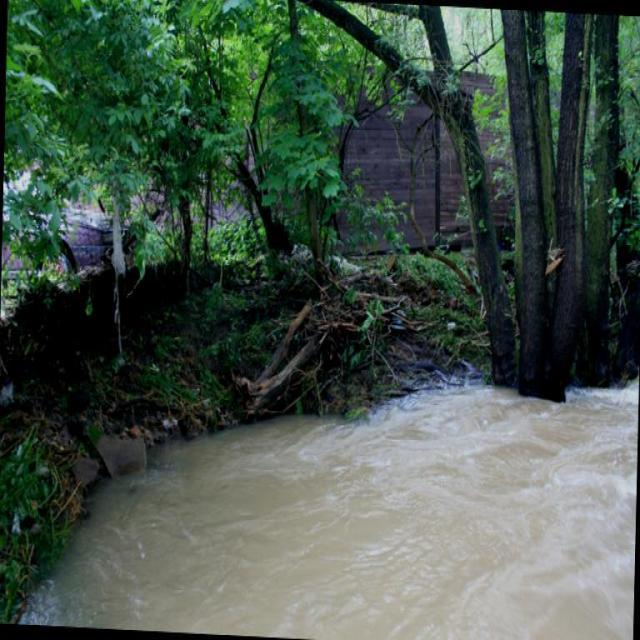flood: (0, 354, 639, 639)
